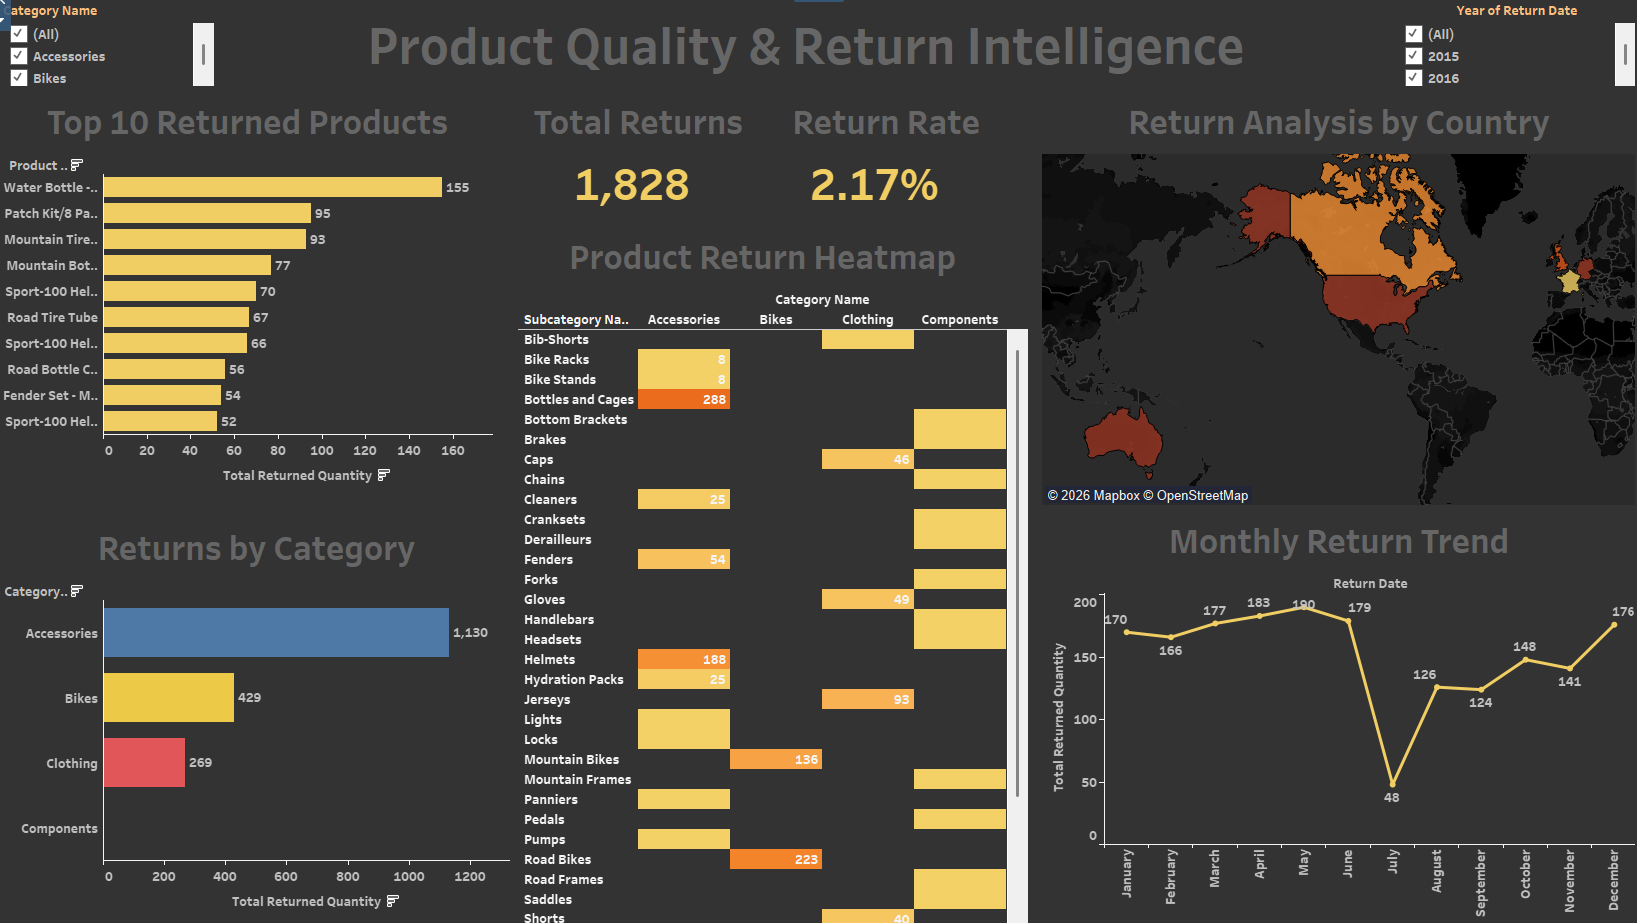

Layout of this report page (visuals, bound fields, positions):
{"tool":"tableau","page":{"name":"Product Quality & Return Intelligence","canvas":[1000,1000],"units":"permille","ordinal":2},"visuals":[{"type":"filter","title":"Monthly Return Trend","param":"[federated.1hjuwdg0d7bzxl14a3a6u0hg4tcx].[none:CategoryName:nk]","box":[4.8,8.4,132.1,98.2]},{"type":"text","box":[137,8.4,709.7,98.2]},{"type":"filter","title":"Monthly Return Trend","param":"[federated.1hjuwdg0d7bzxl14a3a6u0hg4tcx].[yr:ReturnDate:ok]","box":[846.7,8.4,148.5,98.2]},{"type":"worksheet","title":"Top 10 Returned Products","mark":"Automatic","rows":["ProductName"],"cols":["Calculation_736620077973397504"],"box":[4.8,106.6,310.7,449.8]},{"type":"worksheet","title":"Total Returns","mark":"Automatic","box":[315.6,106.6,149.5,142.6]},{"type":"worksheet","title":"Return Rate","mark":"Automatic","box":[465,106.6,166.8,142.6]},{"type":"worksheet","title":"Return Analysis by Country","mark":"Automatic","box":[631.8,106.6,363.4,442.5]},{"type":"worksheet","title":"Product Return Heatmap","mark":"Square","rows":["SubcategoryName"],"cols":["CategoryName"],"box":[315.6,249.2,316.2,742.4]},{"type":"worksheet","title":"Monthly Return Trend","mark":"Automatic","rows":["Calculation_736620077973397504"],"cols":["ReturnDate"],"box":[631.8,549.1,363.4,442.4]},{"type":"worksheet","title":"Returns by Category","mark":"Automatic","rows":["CategoryName"],"cols":["Calculation_736620077973397504"],"box":[4.8,556.5,310.7,435.1]}]}

Visuals, with their boxes on the dashboard's canvas, which has no fixed pixel size, in thousandths of its width and height (x1, y1, x2, y2). These are canvas units, not pixel positions in the 1637x923 screenshot, which may show the page scaled, cropped or inside an application window:
"Monthly Return Trend" filter: [5, 8, 137, 107]
text: [137, 8, 847, 107]
"Monthly Return Trend" filter: [847, 8, 995, 107]
"Top 10 Returned Products" worksheet: [5, 107, 316, 556]
"Total Returns" worksheet: [316, 107, 465, 249]
"Return Rate" worksheet: [465, 107, 632, 249]
"Return Analysis by Country" worksheet: [632, 107, 995, 549]
"Product Return Heatmap" worksheet (Square marks): [316, 249, 632, 992]
"Monthly Return Trend" worksheet: [632, 549, 995, 992]
"Returns by Category" worksheet: [5, 556, 316, 992]
